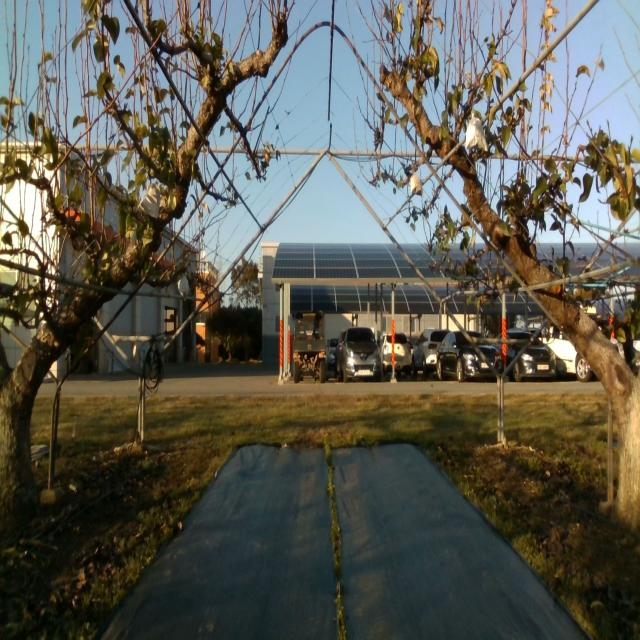pearbags: (466, 110, 489, 152), (138, 178, 161, 219), (410, 171, 424, 196), (178, 272, 188, 301)
